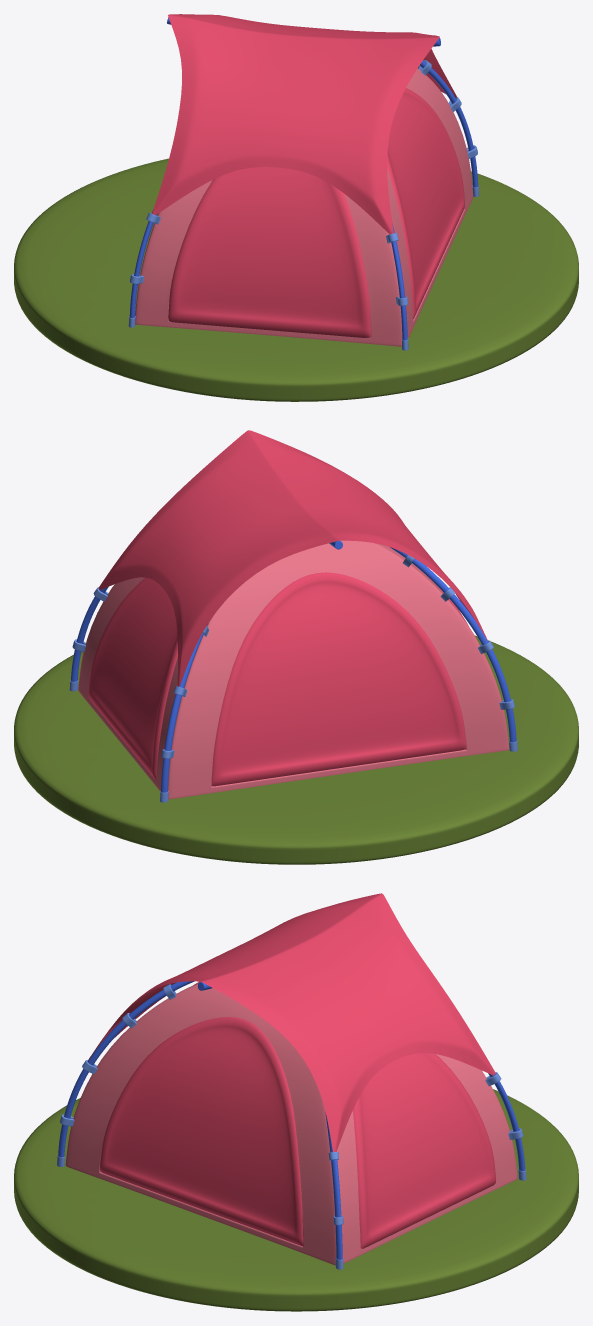
File: outdoor-adventure-3d-animated-icon-551190799169.glb
The picture shows the model from 3 angles, top to bottom: view 1: azimuth 30°, elevation 25°; view 2: azimuth 150°, elevation 25°; view 3: azimuth 270°, elevation 25°; orthographic projection.
Parts seen in each view (by area): view 1: floor, rain_cover, window, tent_body, door_2, structure_poles, clip; view 2: floor, door_2, rain_cover, tent_body, window, structure_poles, clip; view 3: floor, rain_cover, door_2, tent_body, window, structure_poles, clip.
Boxes of the visible parts, x1,y1,x2,y2 form: floor: (14, 158, 578, 401); rain_cover: (152, 14, 457, 234); window: (168, 167, 370, 337); tent_body: (135, 68, 473, 346); door_2: (387, 88, 464, 318); structure_poles: (129, 60, 478, 340); clip: (129, 60, 477, 305); floor: (14, 635, 578, 864); door_2: (211, 572, 466, 786); rain_cover: (98, 430, 488, 686); tent_body: (78, 540, 509, 799); window: (88, 577, 467, 779); structure_poles: (71, 547, 516, 792); clip: (72, 555, 514, 758); floor: (14, 1089, 578, 1311); rain_cover: (88, 893, 495, 1151); door_2: (100, 1017, 303, 1246); tent_body: (65, 982, 517, 1265); window: (194, 981, 495, 1248); structure_poles: (58, 981, 525, 1259); clip: (60, 984, 523, 1225).
Bounding box in the file's own units: 3 × 1.54 × 3.
